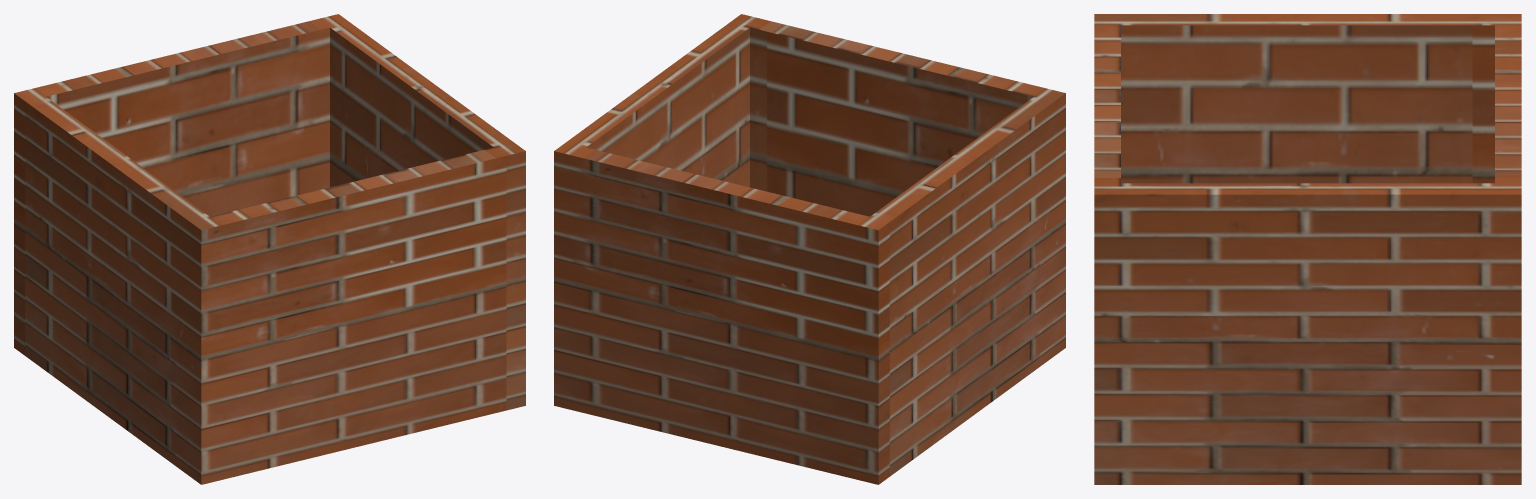
File: walls.obj
3 views of the same model, side by side, from view 1: azimuth 30°, elevation 25°; view 2: azimuth 150°, elevation 25°; view 3: azimuth 270°, elevation 25° (orthographic). The views are drawn at different scales.
Visible parts, largest first — view 1: Cube; view 2: Cube; view 3: Cube.
Part boxes in pixels (x1,y1,x2,y2): Cube: (14, 14, 525, 484); Cube: (554, 14, 1065, 484); Cube: (1094, 14, 1521, 484).
Bounding box in the file's own units: 8 × 6 × 8.
